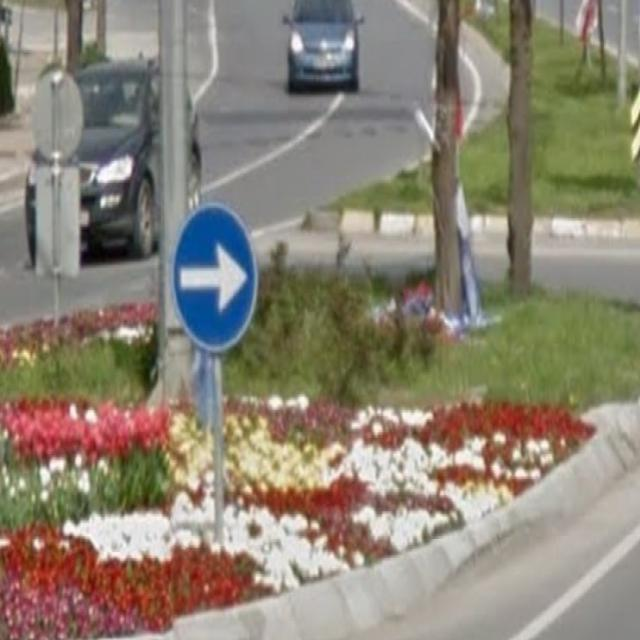Turn Right: (172, 202, 255, 351)
